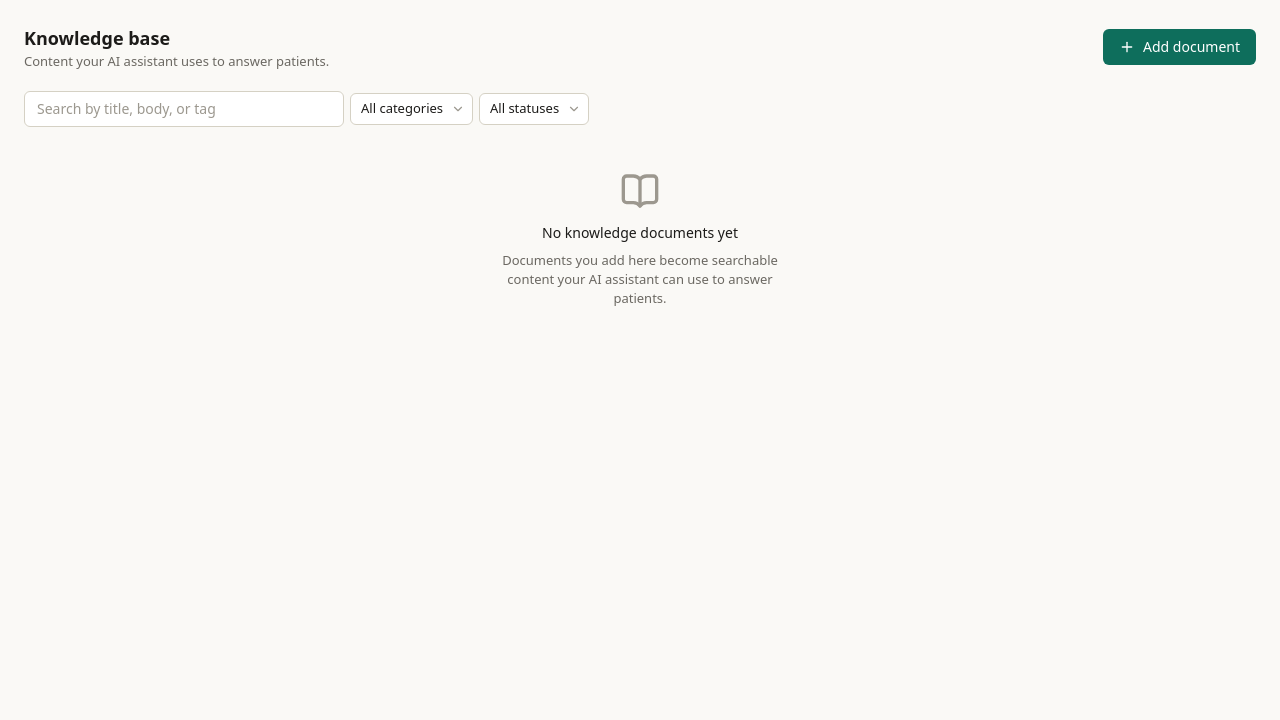
KnowledgePage › creates a knowledge document without sending a clinicId
Click the button "Add document" at (1180, 47), box [1103,29,1256,65]
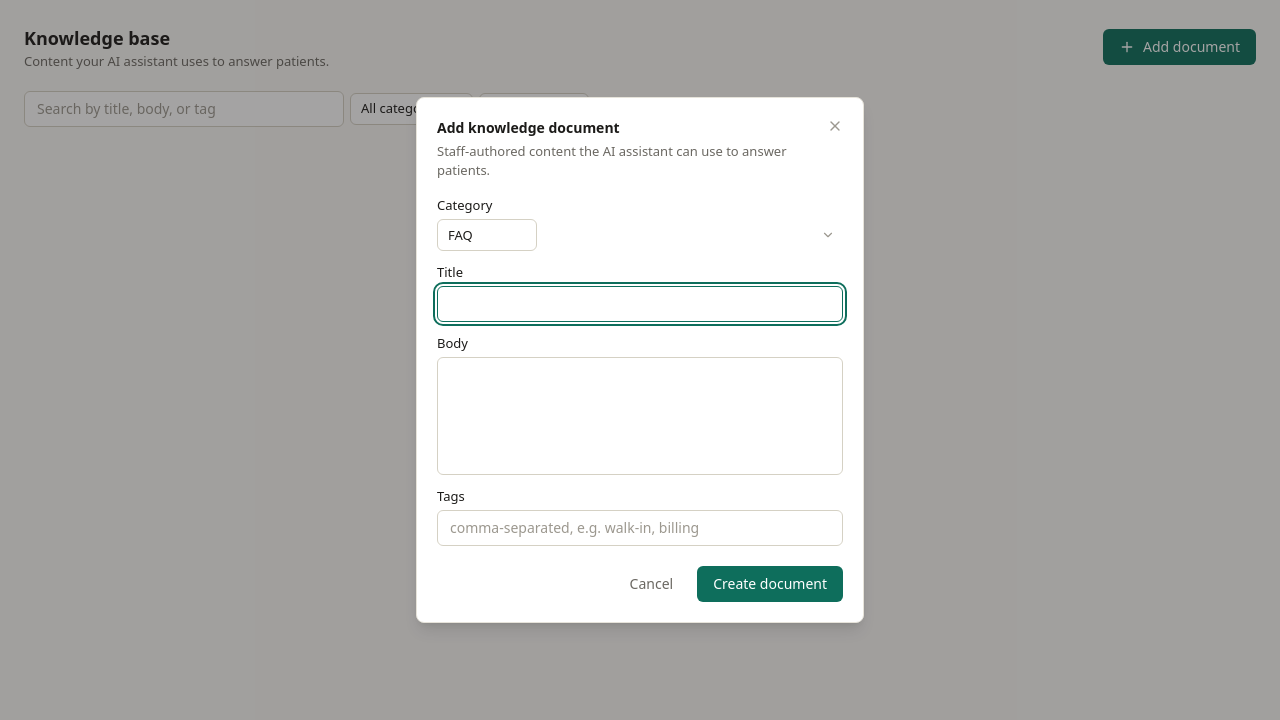
Type "Do you offer parking?" into the field labelled "Title" at (640, 304), box [437,286,843,322]
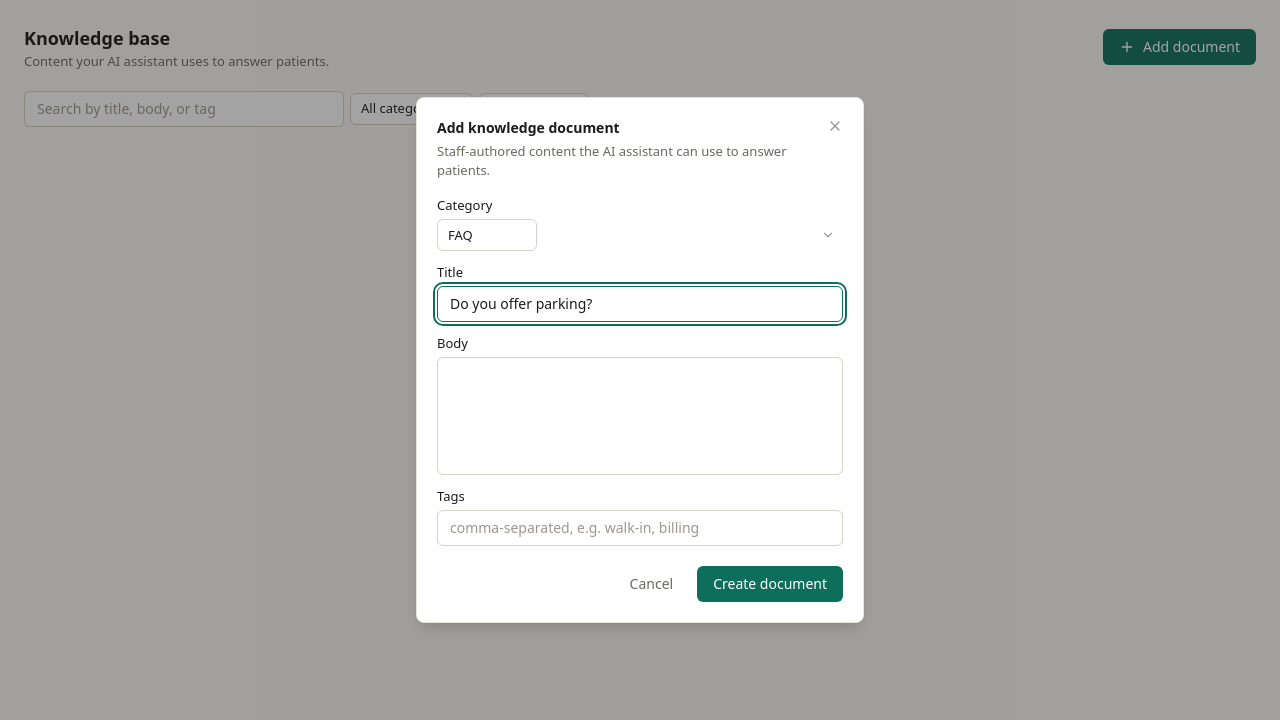
Type "Yes, free parking is available on-site." into the text box labelled "Body" at (640, 416), box [437,357,843,475]
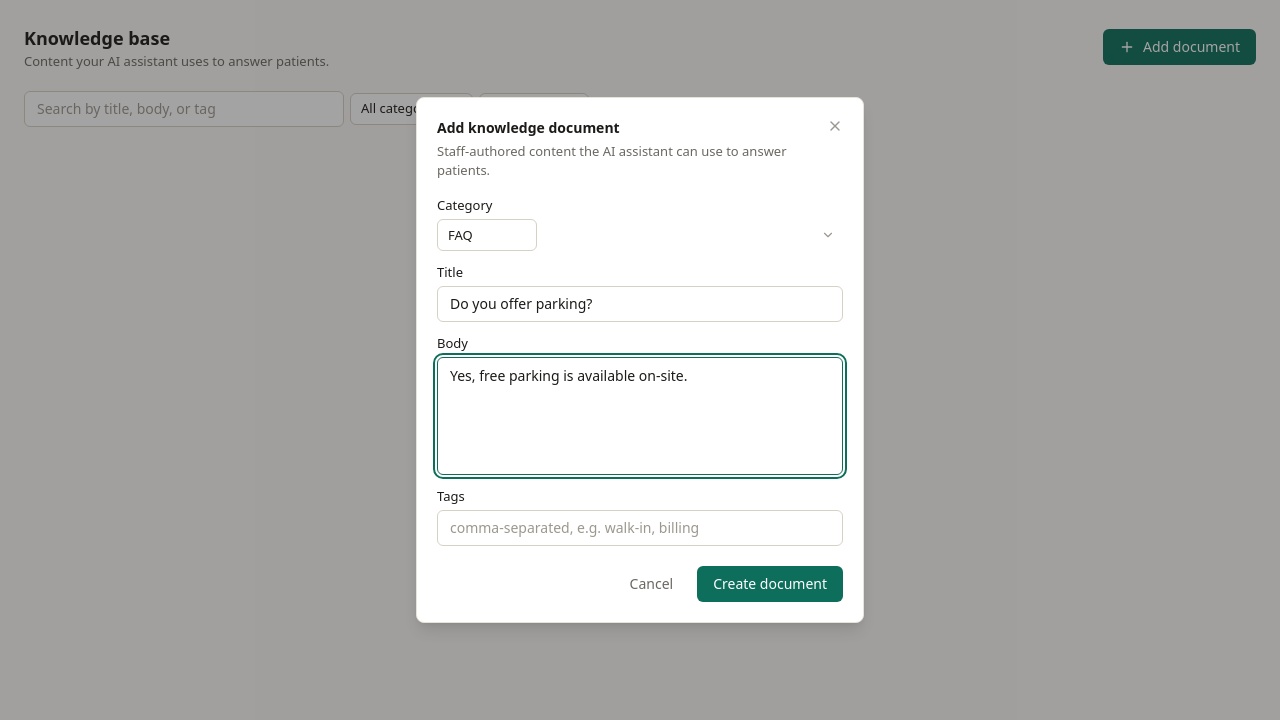
Type "parking" into the field labelled "Tags" at (640, 528), box [437,510,843,546]
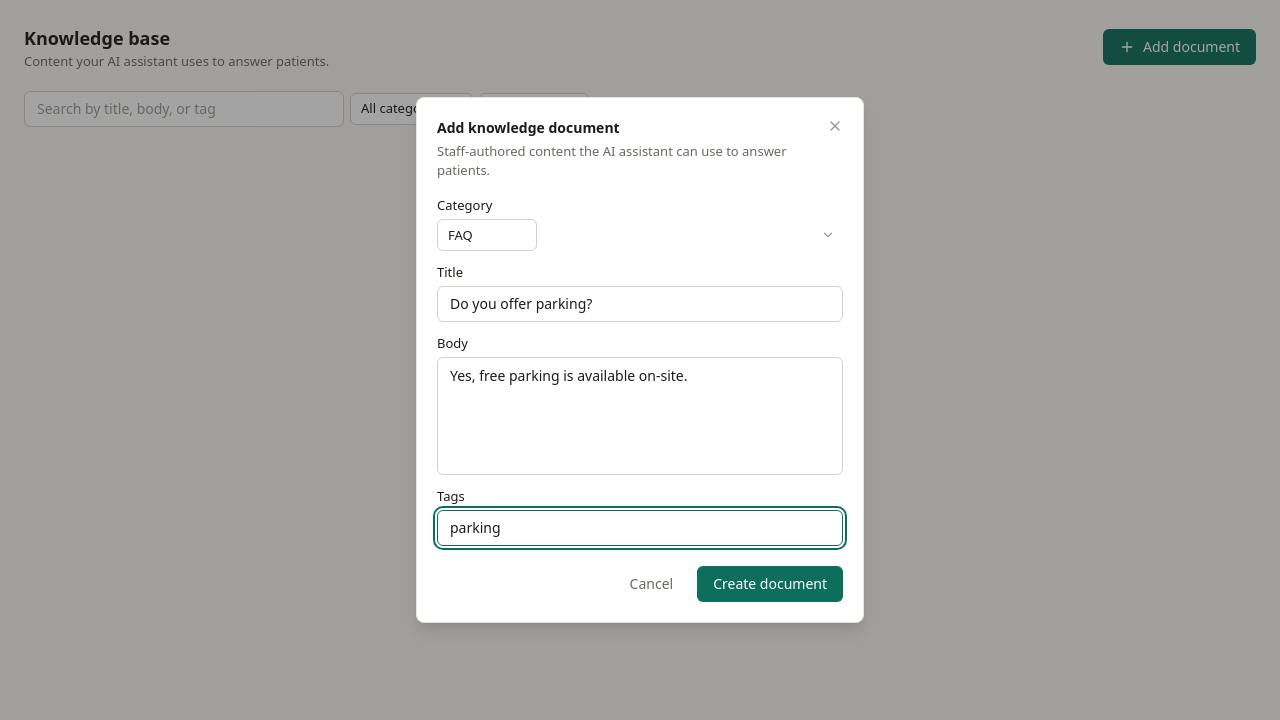
Click the button "Create document" at (770, 584), box [697,566,843,602]
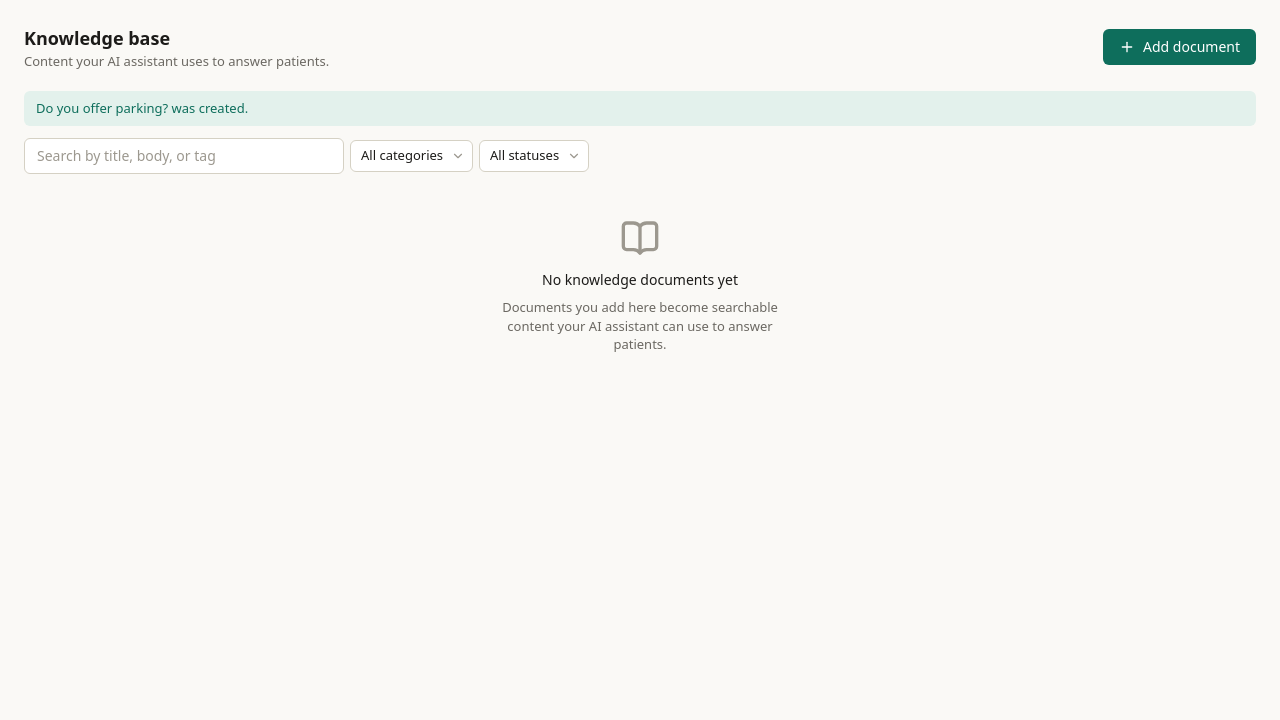
Check: the text "Do you offer parking? was created." is shown, box [24,91,1256,126]
Check: the dialog is gone
